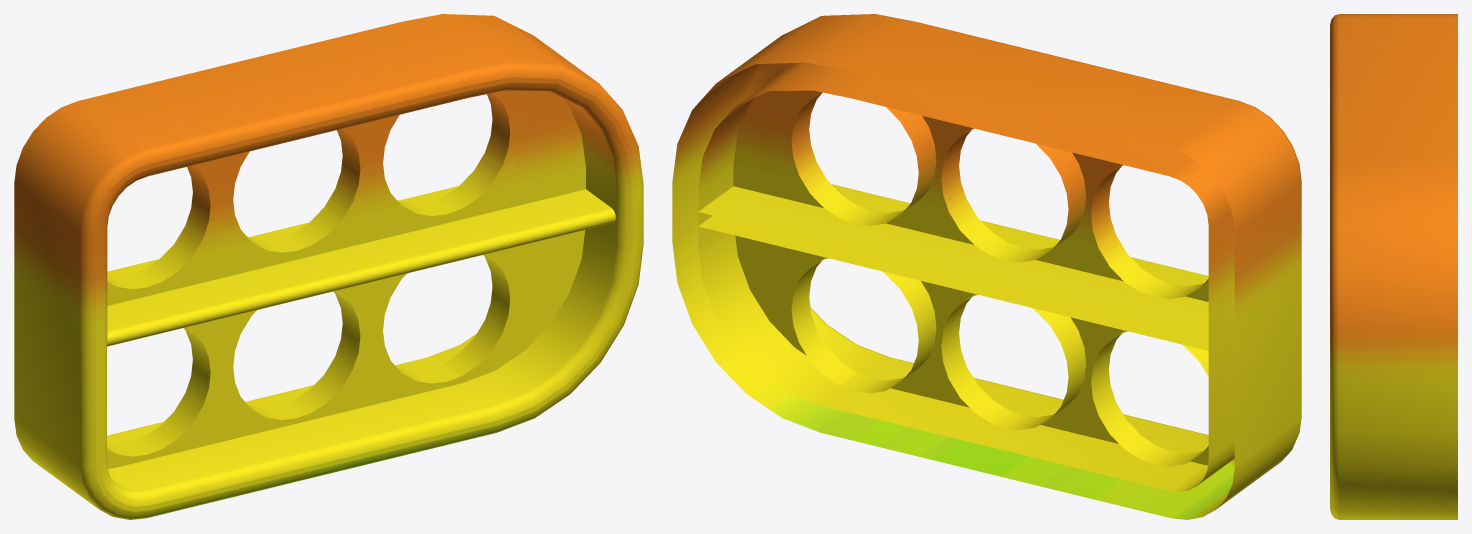
The model's file is Amongus02_Cut_002_0.FBX.
3 views of the same model, side by side, from view 1: azimuth 30°, elevation 25°; view 2: azimuth 150°, elevation 25°; view 3: azimuth 270°, elevation 25° (orthographic). The views are drawn at different scales.
Visible parts, largest first — view 1: Amongus02_Cut_002_0; view 2: Amongus02_Cut_002_0; view 3: Amongus02_Cut_002_0.
Part boxes in pixels (x1,y1,x2,y2): Amongus02_Cut_002_0: (14, 14, 643, 519); Amongus02_Cut_002_0: (672, 14, 1301, 519); Amongus02_Cut_002_0: (1330, 14, 1457, 519).
Size of the model in its own units: 3.1 by 0.677 by 1.94.
